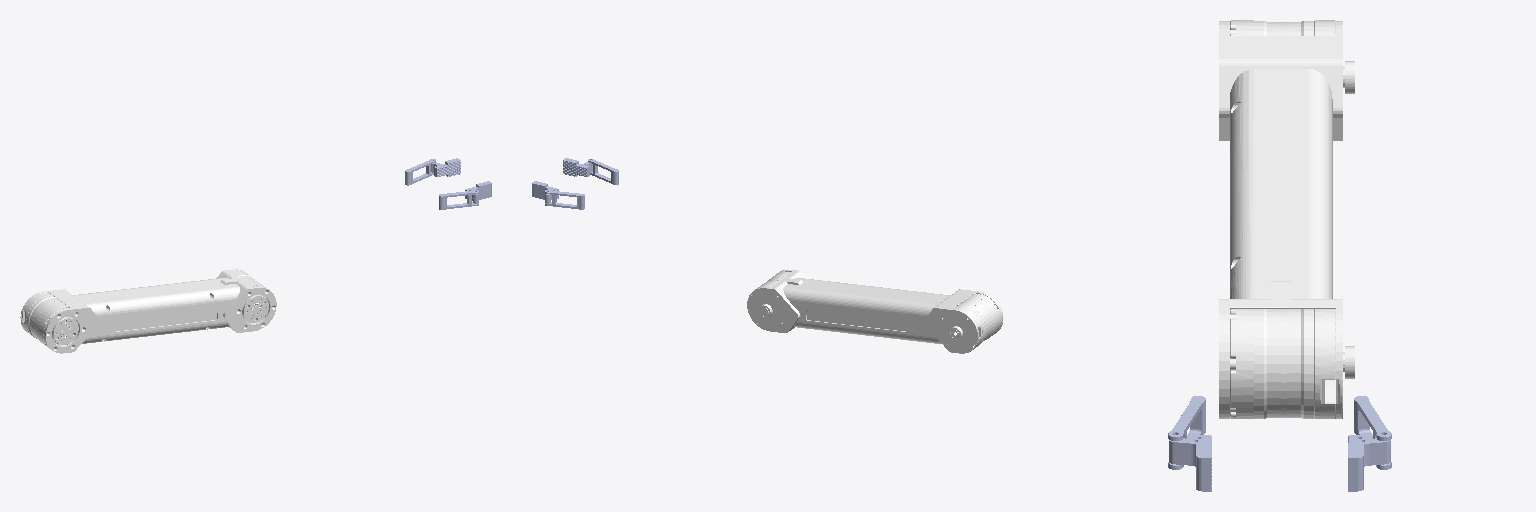
The robot description file, URDF, robot "airbot_play_v2_inspire_eg2_4c_v1":
<?xml version="1.0" encoding="utf-8" ?>
<!-- This URDF was automatically created by SolidWorks to URDF Exporter! Originally created by [author] ([email redacted]) 
     Commit Version: 1.6.0-4-g7f85cfe  Build Version: 1.6.7995.38578
     For more information, please see http://wiki.ros.org/sw_urdf_exporter -->
<robot name="airbot_play_v2_inspire_eg2_4c_v1">
    <link name="base_link">
        <inertial>
            <origin xyz="-0.0124323372191195 -0.000168577813282202 0.0371705356530249" rpy="0 0 0" />
            <mass value="0.36733" />
            <inertia ixx="0.00045941" ixy="0.00000455" ixz="-0.00000225" iyy="0.00072656" iyz="-0.00000316" izz="0.00089115" />
        </inertial>
        <visual>
            <origin xyz="0 0 0" rpy="0 0 0" />
            <geometry>
                <mesh filename="package://airbot_play_v2_inspire_eg2_4c_v1/meshes/base_link.STL" />
            </geometry>
            <material name="">
                <color rgba="1 1 1 1" />
            </material>
        </visual>
        <collision>
            <origin xyz="0 0 0" rpy="0 0 0" />
            <geometry>
                <mesh filename="package://airbot_play_v2_inspire_eg2_4c_v1/meshes/base_link.STL" />
            </geometry>
        </collision>
    </link>
    <link name="link1">
        <inertial>
            <origin xyz="-3.63839294803547E-09 0.00411602516522613 -0.0267160520548818" rpy="0 0 0" />
            <mass value="0.18684" />
            <inertia ixx="0.00023064" ixy="0.00000000" ixz="0.00000000" iyy="0.00007773" iyz="0.00001816" izz="0.00020593" />
        </inertial>
        <visual>
            <origin xyz="0 0 0" rpy="0 0 0" />
            <geometry>
                <mesh filename="package://airbot_play_v2_inspire_eg2_4c_v1/meshes/link1.STL" />
            </geometry>
            <material name="">
                <color rgba="0.898039215686275 0.917647058823529 0.929411764705882 1" />
            </material>
        </visual>
        <collision>
            <origin xyz="0 0 0" rpy="0 0 0" />
            <geometry>
                <mesh filename="package://airbot_play_v2_inspire_eg2_4c_v1/meshes/link1.STL" />
            </geometry>
        </collision>
    </link>
    <joint name="joint1" type="revolute">
        <origin xyz="0 0 0.113" rpy="0 0 0" />
        <parent link="base_link" />
        <child link="link1" />
        <axis xyz="0 0 1" />
        <limit lower="-2" upper="3.14" effort="100" velocity="110" />
    </joint>
    <link name="link2">
        <inertial>
            <origin xyz="0.131545428582519 4.45240788682355E-11 0.00203029636028226" rpy="0 0 0" />
            <mass value="0.76702" />
            <inertia ixx="0.00052958" ixy="0.00000000" ixz=" -0.00007564" iyy="0.00979918" iyz="0.00000000" izz="0.00967816" />
        </inertial>
        <visual>
            <origin xyz="0 0 0" rpy="0 0 0" />
            <geometry>
                <mesh filename="package://airbot_play_v2_inspire_eg2_4c_v1/meshes/link2.STL" />
            </geometry>
            <material name="">
                <color rgba="1 1 1 1" />
            </material>
        </visual>
        <collision>
            <origin xyz="0 0 0" rpy="0 0 0" />
            <geometry>
                <mesh filename="package://airbot_play_v2_inspire_eg2_4c_v1/meshes/link2.STL" />
            </geometry>
        </collision>
    </link>
    <joint name="joint2" type="revolute">
        <origin xyz="0 0 0" rpy="-1.5708 -0.12153 3.1416" />
        <parent link="link1" />
        <child link="link2" />
        <axis xyz="0 0 1" />
        <limit lower="-3.14" upper="0" effort="100" velocity="110" />
    </joint>
    <link name="link3">
        <inertial>
            <origin xyz="0.0370972581725279 -0.118875003827638 0.00162919798688163" rpy="0 0 0" />
            <mass value="0.53744102" />
            <inertia ixx="0.00669513" ixy="-0.00112098" ixz="-0.00003936" iyy="0.00085647" iyz="0.00011902" izz="0.00674459" />
        </inertial>
        <visual>
            <origin xyz="0 0 0" rpy="0 0 0" />
            <geometry>
                <mesh filename="package://airbot_play_v2_inspire_eg2_4c_v1/meshes/link3.STL" />
            </geometry>
            <material name="">
                <color rgba="0.752941176470588 0.752941176470588 0.752941176470588 1" />
            </material>
        </visual>
        <collision>
            <origin xyz="0 0 0" rpy="0 0 0" />
            <geometry>
                <mesh filename="package://airbot_play_v2_inspire_eg2_4c_v1/meshes/link3.STL" />
            </geometry>
        </collision>
    </link>
    <joint name="joint3" type="revolute">
        <origin xyz="0.264 0 0.00075" rpy="0 0 -1.4493" />
        <parent link="link2" />
        <child link="link3" />
        <axis xyz="0 0 1" />
        <limit lower="0" upper="3.9" effort="100" velocity="110" />
    </joint>
    <link name="link4">
        <inertial>
            <origin xyz="-0.000141113671203535 -9.34593691326313E-08 -0.00664660834537212" rpy="0 0 0" />
            <mass value="0.146399866976371" />
            <inertia ixx="0.00008099" ixy="0.00000000" ixz="0.00000138" iyy="0.00007723" iyz="0.00000000" izz="0.00005735" />
        </inertial>
        <visual>
            <origin xyz="0 0 0" rpy="0 0 0" />
            <geometry>
                <mesh filename="package://airbot_play_v2_inspire_eg2_4c_v1/meshes/link4.STL" />
            </geometry>
            <material name="">
                <color rgba="0.752941176470588 0.752941176470588 0.752941176470588 1" />
            </material>
        </visual>
        <collision>
            <origin xyz="0 0 0" rpy="0 0 0" />
            <geometry>
                <mesh filename="package://airbot_play_v2_inspire_eg2_4c_v1/meshes/link4.STL" />
            </geometry>
        </collision>
    </link>
    <joint name="joint4" type="revolute">
        <origin xyz="0.056 -0.3245 0" rpy="1.5708 0 0" />
        <parent link="link3" />
        <child link="link4" />
        <axis xyz="0 0 1" />
        <limit lower="-4" upper="4" effort="100" velocity="110" />
    </joint>
    <link name="link5">
        <inertial>
            <origin xyz="-0.0402748939533359 -4.34158851685199E-05 -0.00162843014239708" rpy="0 0 0" />
            <mass value="0.183711883205063" />
            <inertia ixx="0.00010730" ixy="-0.00000006" ixz="-0.00002691" iyy="0.00018017" iyz="0.00000000" izz="0.00015131" />
        </inertial>
        <visual>
            <origin xyz="0 0 0" rpy="0 0 0" />
            <geometry>
                <mesh filename="package://airbot_play_v2_inspire_eg2_4c_v1/meshes/link5.STL" />
            </geometry>
            <material name="">
                <color rgba="1 1 1 1" />
            </material>
        </visual>
        <collision>
            <origin xyz="0 0 0" rpy="0 0 0" />
            <geometry>
                <mesh filename="package://airbot_play_v2_inspire_eg2_4c_v1/meshes/link5.STL" />
            </geometry>
        </collision>
    </link>
    <joint name="joint5" type="revolute">
        <origin xyz="0 0 0" rpy="0 1.5708 1.5708" />
        <parent link="link4" />
        <child link="link5" />
        <axis xyz="0 0 1" />
        <limit lower="-1.4" upper="1.57" effort="100" velocity="110" />
    </joint>
    <link name="gripper_link">
        <inertial>
            <origin xyz="-0.000179 -0.012920 0.115245" rpy="0 0 0" />
            <mass value="0.202483822224683" />
            <inertia ixx="8.72656224038094E-05" ixy="2.1157802312087E-09" ixz="4.46212258304102E-07" iyy="0.000110884338373626" iyz="3.53923491606382E-06" izz="9.50216775187288E-05" />
        </inertial>
        <visual>
            <origin xyz="0 0 -0.003" rpy="0 0 0" />
            <geometry>
                <mesh filename="package://airbot_play_inspire_eg2_4c_v2/meshes/gripper_link.STL" />
            </geometry>
            <material name="">
                <color rgba="0.792156862745098 0.819607843137255 0.933333333333333 1" />
            </material>
        </visual>
        <collision>
            <origin xyz="0 0 -0.003" rpy="0 0 0" />
            <geometry>
                <mesh filename="package://airbot_play_inspire_eg2_4c_v2/meshes/gripper_link.STL" />
            </geometry>
        </collision>
    </link>
    <joint name="joint6" type="revolute">
        <origin xyz="0 0 0" rpy="0 -1.5708 0" />
        <parent link="link5" />
        <child link="gripper_link" />
        <axis xyz="0 0 1" />
        <limit lower="-10" upper="10" effort="100" velocity="1000" />
    </joint>
    <link name="gripper_link10">
        <inertial>
            <origin xyz="0.0162376775855017 0.00170828143838967 1.60704782814491E-14" rpy="0 0 0" />
            <mass value="0.00248574193257273" />
            <inertia ixx="1.1187321281772E-07" ixy="-6.68088965340704E-19" ixz="-1.14085928959275E-18" iyy="6.84359115875508E-07" iyz="-3.99246934174549E-19" izz="5.89072994948579E-07" />
        </inertial>
        <visual>
            <origin xyz="0 0 0" rpy="0 0 0" />
            <geometry>
                <mesh filename="package://airbot_play_inspire_eg2_4c_v2/meshes/gripper_link10.STL" />
            </geometry>
            <material name="">
                <color rgba="0.792156862745098 0.819607843137255 0.933333333333333 1" />
            </material>
        </visual>
        <collision>
            <origin xyz="0 0 0" rpy="0 0 0" />
            <geometry>
                <mesh filename="package://airbot_play_inspire_eg2_4c_v2/meshes/gripper_link10.STL" />
            </geometry>
        </collision>
    </link>
    <joint name="joint_gripper10" type="revolute">
        <origin xyz="-0.038533 0.00036 0.18735" rpy="-1.5708 -1.304 3.1416" />
        <parent link="gripper_link" />
        <child link="gripper_link10" />
        <axis xyz="0 0 1" />
        <limit lower="-10" upper="10" effort="100" velocity="110" />
    </joint>
    <link name="gripper_link11">
        <inertial>
            <origin xyz="-0.0110043692378349 0.00972866237979003 -3.15436854414486E-09" rpy="0 0 0" />
            <mass value="0.00450681926243327" />
            <inertia ixx="1.99225999101227E-07" ixy="9.189631443366E-08" ixz="1.32669175648538E-13" iyy="5.14550853833888E-07" iyz="-4.49972931710022E-14" izz="5.32027763416069E-07" />
        </inertial>
        <visual>
            <origin xyz="0 0 0" rpy="0 0 0" />
            <geometry>
                <mesh filename="package://airbot_play_inspire_eg2_4c_v2/meshes/gripper_link11.STL" />
            </geometry>
            <material name="">
                <color rgba="0.792156862745098 0.819607843137255 0.933333333333333 1" />
            </material>
        </visual>
        <collision>
            <origin xyz="0 0 0" rpy="0 0 0" />
            <geometry>
                <mesh filename="package://airbot_play_inspire_eg2_4c_v2/meshes/gripper_link11.STL" />
            </geometry>
        </collision>
    </link>
    <joint name="joint_gripper11" type="revolute">
        <origin xyz="0.041998 -0.00037577 0" rpy="0 0 2.8658" />
        <parent link="gripper_link10" />
        <child link="gripper_link11" />
        <axis xyz="0 0 1" />
        <limit lower="-10" upper="10" effort="100" velocity="110" />
    </joint>
    <link name="gripper_link20">
        <inertial>
            <origin xyz="0.0160458916846533 0.00170815882510347 -1.61815005839117E-14" rpy="0 0 0" />
            <mass value="0.0024857419325728" />
            <inertia ixx="1.11873212817726E-07" ixy="6.5445041140093E-19" ixz="1.13838047913434E-18" iyy="6.84359115875493E-07" iyz="-3.98790262211301E-19" izz="5.8907299494856E-07" />
        </inertial>
        <visual>
            <origin xyz="0 0 0" rpy="0 0 0" />
            <geometry>
                <mesh filename="package://airbot_play_inspire_eg2_4c_v2/meshes/gripper_link20.STL" />
            </geometry>
            <material name="">
                <color rgba="0.792156862745098 0.819607843137255 0.933333333333333 1" />
            </material>
        </visual>
        <collision>
            <origin xyz="0 0 0" rpy="0 0 0" />
            <geometry>
                <mesh filename="package://airbot_play_inspire_eg2_4c_v2/meshes/gripper_link20.STL" />
            </geometry>
        </collision>
    </link>
    <joint name="joint_gripper20" type="revolute">
        <origin xyz="0.041464 0.00036 0.18664" rpy="1.5708 -1.304 0" />
        <parent link="gripper_link" />
        <child link="gripper_link20" />
        <axis xyz="0 0 1" />
        <limit lower="-10" upper="10" effort="100" velocity="110" />
    </joint>
    <link name="gripper_link21">
        <inertial>
            <origin xyz="-0.0117059608928904 -0.0140030860218414 3.11077152925776E-09" rpy="0 0 0" />
            <mass value="0.00450681912675432" />
            <inertia ixx="2.02615006762524E-07" ixy="-9.74786442765277E-08" ixz="-1.30502494006714E-13" iyy="5.11161832405036E-07" iyz="-4.71432886532517E-14" izz="5.32027750665231E-07" />
        </inertial>
        <visual>
            <origin xyz="0 0 0" rpy="0 0 0" />
            <geometry>
                <mesh filename="package://airbot_play_inspire_eg2_4c_v2/meshes/gripper_link21.STL" />
            </geometry>
            <material name="">
                <color rgba="0.792156862745098 0.819607843137255 0.933333333333333 1" />
            </material>
        </visual>
        <collision>
            <origin xyz="0 0 0" rpy="0 0 0" />
            <geometry>
                <mesh filename="package://airbot_play_inspire_eg2_4c_v2/meshes/gripper_link21.STL" />
            </geometry>
        </collision>
    </link>
    <joint name="joint_gripper21" type="revolute">
        <origin xyz="0.041998 -0.00037577 0" rpy="0 0 -2.8837" />
        <parent link="gripper_link20" />
        <child link="gripper_link21" />
        <axis xyz="0 0 1" />
        <limit lower="-10" upper="10" effort="100" velocity="110" />
    </joint>
    <link name="custom_end_link">
        <inertial>
            <origin xyz="0 0 0" rpy="0 0 0" />
            <mass value="1E-15" />
            <inertia ixx="1E-11" ixy="1E-15" ixz="1E-15" iyy="1E-11" iyz="1E-15" izz="1E-11" />
        </inertial>
    </link>
    <joint name="joint_custom_end" type="fixed">
        <origin xyz="0 0 0.255" rpy="1.5708 -1.5708 0" />
        <parent link="gripper_link" />
        <child link="custom_end_link" />
    </joint>
    <transmission name="trans_joint1">
        <type>transmission_interface/SimpleTransmission</type>
        <joint name="joint1">
            <hardwareInterface>hardware_interface/PositionJointInterface</hardwareInterface>
        </joint>
        <actuator name="joint1_motor">
            <hardwareInterface>hardware_interface/PositionJointInterface</hardwareInterface>
            <mechanicalReduction>1</mechanicalReduction>
        </actuator>
    </transmission>
    <transmission name="trans_joint2">
        <type>transmission_interface/SimpleTransmission</type>
        <joint name="joint2">
            <hardwareInterface>hardware_interface/PositionJointInterface</hardwareInterface>
        </joint>
        <actuator name="joint2_motor">
            <hardwareInterface>hardware_interface/PositionJointInterface</hardwareInterface>
            <mechanicalReduction>1</mechanicalReduction>
        </actuator>
    </transmission>
    <transmission name="trans_joint3">
        <type>transmission_interface/SimpleTransmission</type>
        <joint name="joint3">
            <hardwareInterface>hardware_interface/PositionJointInterface</hardwareInterface>
        </joint>
        <actuator name="joint3_motor">
            <hardwareInterface>hardware_interface/PositionJointInterface</hardwareInterface>
            <mechanicalReduction>1</mechanicalReduction>
        </actuator>
    </transmission>
    <transmission name="trans_joint4">
        <type>transmission_interface/SimpleTransmission</type>
        <joint name="joint4">
            <hardwareInterface>hardware_interface/PositionJointInterface</hardwareInterface>
        </joint>
        <actuator name="joint4_motor">
            <hardwareInterface>hardware_interface/PositionJointInterface</hardwareInterface>
            <mechanicalReduction>1</mechanicalReduction>
        </actuator>
    </transmission>
    <transmission name="trans_joint5">
        <type>transmission_interface/SimpleTransmission</type>
        <joint name="joint5">
            <hardwareInterface>hardware_interface/PositionJointInterface</hardwareInterface>
        </joint>
        <actuator name="joint5_motor">
            <hardwareInterface>hardware_interface/PositionJointInterface</hardwareInterface>
            <mechanicalReduction>1</mechanicalReduction>
        </actuator>
    </transmission>
    <transmission name="trans_joint6">
        <type>transmission_interface/SimpleTransmission</type>
        <joint name="joint6">
            <hardwareInterface>hardware_interface/PositionJointInterface</hardwareInterface>
        </joint>
        <actuator name="joint6_motor">
            <hardwareInterface>hardware_interface/PositionJointInterface</hardwareInterface>
            <mechanicalReduction>1</mechanicalReduction>
        </actuator>
    </transmission>
    <transmission name="trans_joint_gripper10">
        <type>transmission_interface/SimpleTransmission</type>
        <joint name="joint_gripper10">
            <hardwareInterface>hardware_interface/PositionJointInterface</hardwareInterface>
        </joint>
        <actuator name="joint_gripper10_motor">
            <hardwareInterface>hardware_interface/PositionJointInterface</hardwareInterface>
            <mechanicalReduction>1</mechanicalReduction>
        </actuator>
    </transmission>
    <transmission name="trans_joint_gripper11">
        <type>transmission_interface/SimpleTransmission</type>
        <joint name="joint_gripper11">
            <hardwareInterface>hardware_interface/PositionJointInterface</hardwareInterface>
        </joint>
        <actuator name="joint_gripper11_motor">
            <hardwareInterface>hardware_interface/PositionJointInterface</hardwareInterface>
            <mechanicalReduction>1</mechanicalReduction>
        </actuator>
    </transmission>
    <transmission name="trans_joint_gripper20">
        <type>transmission_interface/SimpleTransmission</type>
        <joint name="joint_gripper20">
            <hardwareInterface>hardware_interface/PositionJointInterface</hardwareInterface>
        </joint>
        <actuator name="joint_gripper20_motor">
            <hardwareInterface>hardware_interface/PositionJointInterface</hardwareInterface>
            <mechanicalReduction>1</mechanicalReduction>
        </actuator>
    </transmission>
    <transmission name="trans_joint_gripper21">
        <type>transmission_interface/SimpleTransmission</type>
        <joint name="joint_gripper21">
            <hardwareInterface>hardware_interface/PositionJointInterface</hardwareInterface>
        </joint>
        <actuator name="joint_gripper21_motor">
            <hardwareInterface>hardware_interface/PositionJointInterface</hardwareInterface>
            <mechanicalReduction>1</mechanicalReduction>
        </actuator>
    </transmission>
    <gazebo>
        <plugin name="gazebo_ros_control">
            <robotNamespace>/</robotNamespace>
        </plugin>
    </gazebo>
</robot>

--- Facts derived from the render (not from the file) ---
Views: 3 orthographic renders of the robot side by side, from view 1: azimuth 30°, elevation 25°; view 2: azimuth 150°, elevation 25°; view 3: azimuth 270°, elevation 25°.
Model airbot_play_v2_inspire_eg2_4c_v1 with 12 links and 11 joints (10 revolute, 1 fixed), rooted at base_link, posed all joints at 0.
Links seen in each view (by area): view 1: link2; view 2: link2; view 3: link2, gripper_link11, gripper_link21, gripper_link10, gripper_link20.
Link boxes in pixels (x1,y1,x2,y2): link2: (20,269,276,353); link2: (747,269,1003,353); link2: (1219,20,1354,418); gripper_link11: (1348,435,1390,491); gripper_link21: (1169,435,1211,491); gripper_link10: (1354,396,1391,469); gripper_link20: (1168,396,1205,469).
Size in the robot's own frame: 0.6085 by 0.1096 by 0.1246 metres.
Meshes: 11 distinct files referenced, 5 mesh visuals loaded (5 binary STL); not drawn: 6 (reference not matched to a file when rendering).